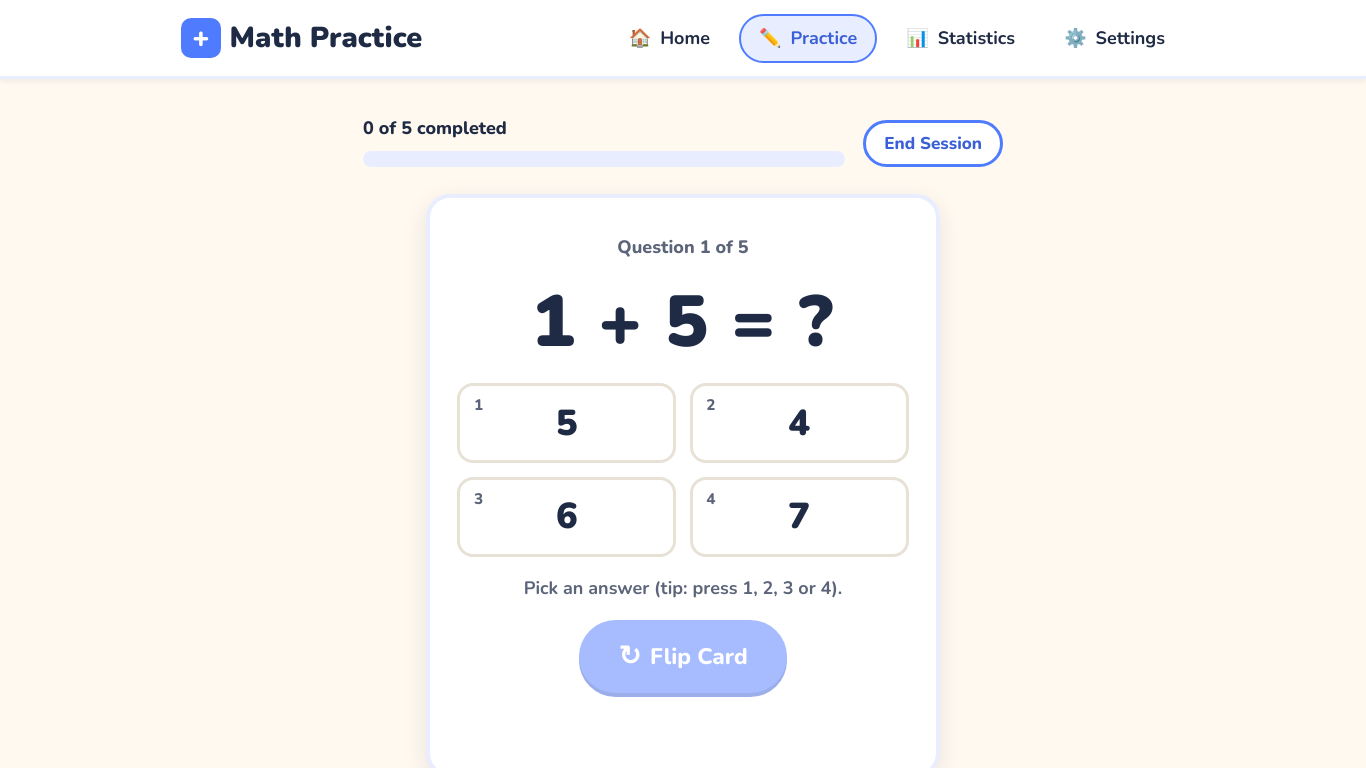
session safety › ends and saves the session, then goes where the child clicked
Click the button "1 5" at (567, 423), box [458,383,676,463]
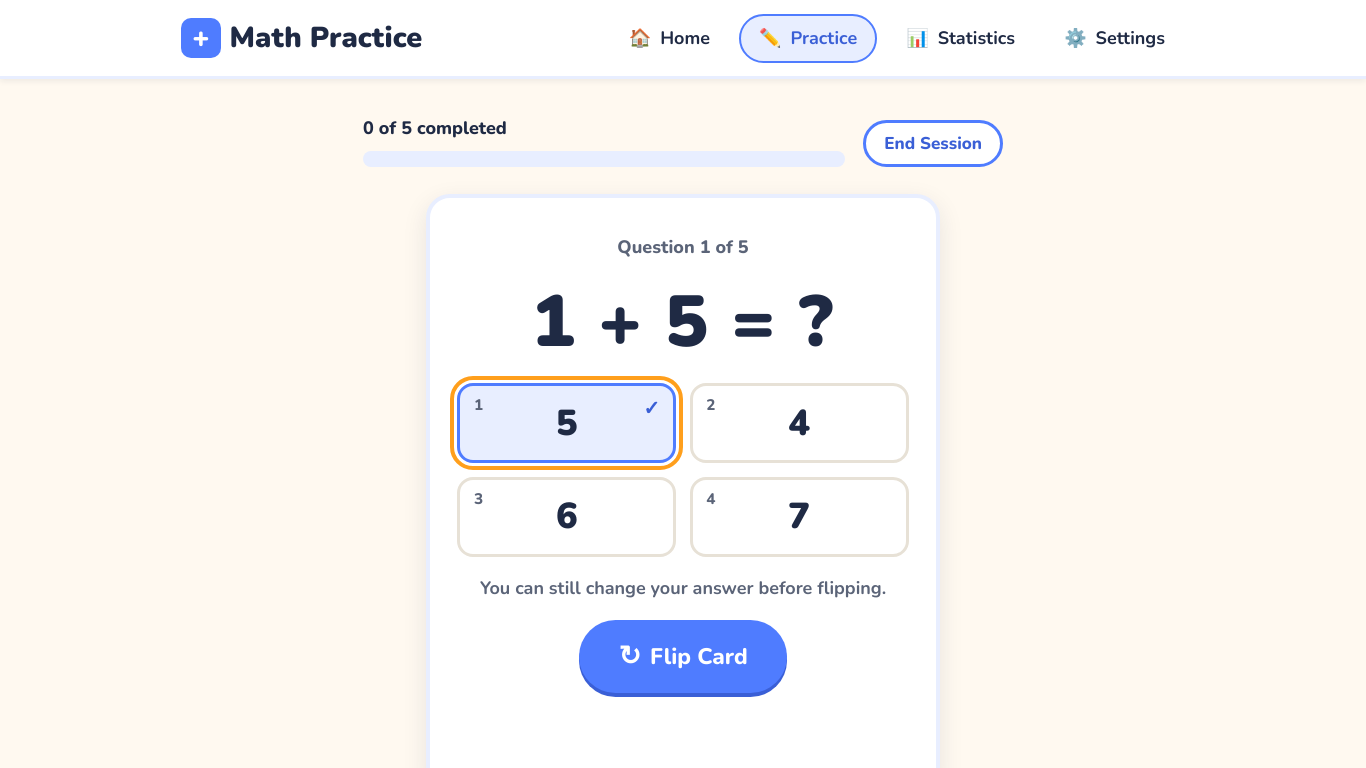
Click the button "↻ Flip Card" at (683, 656), box [579,620,787,693]
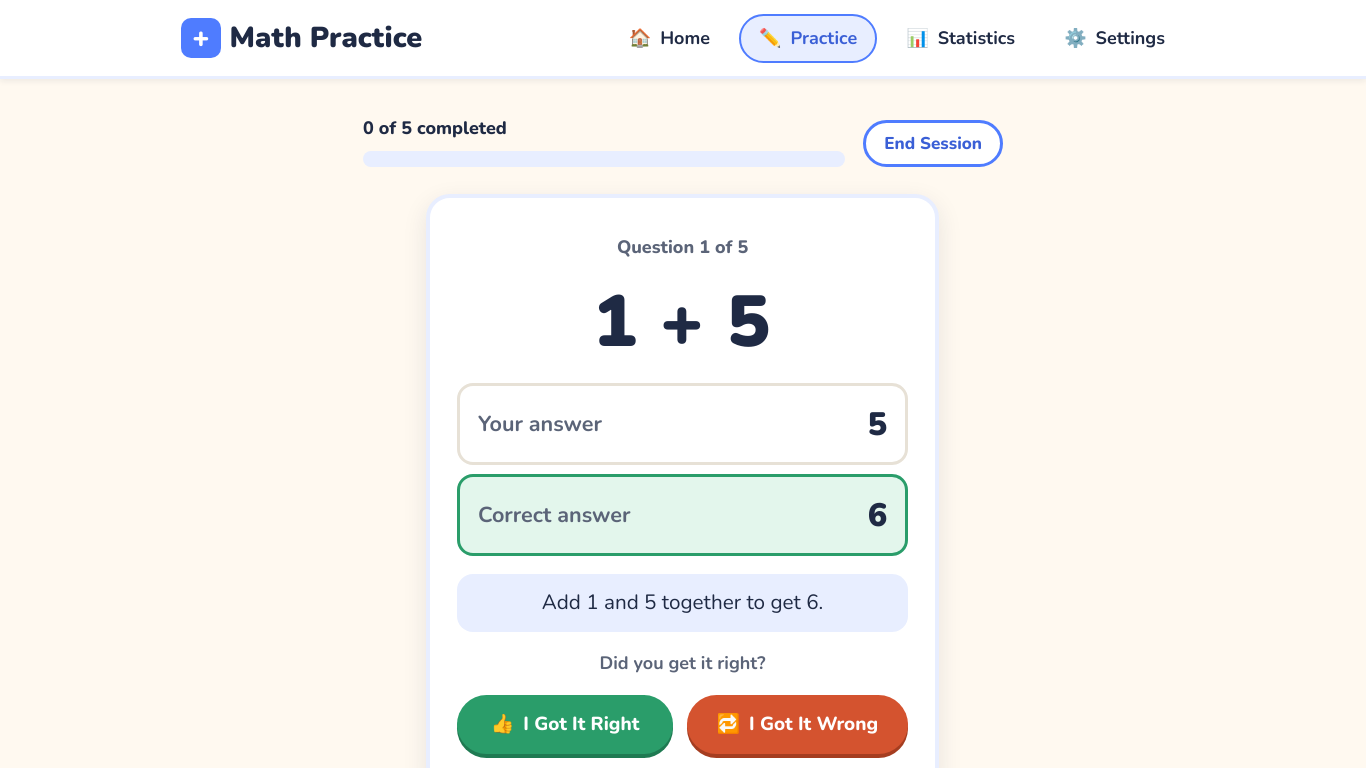
Click the button "🔁 I Got It Wrong" at (798, 724), box [687,695,909,754]
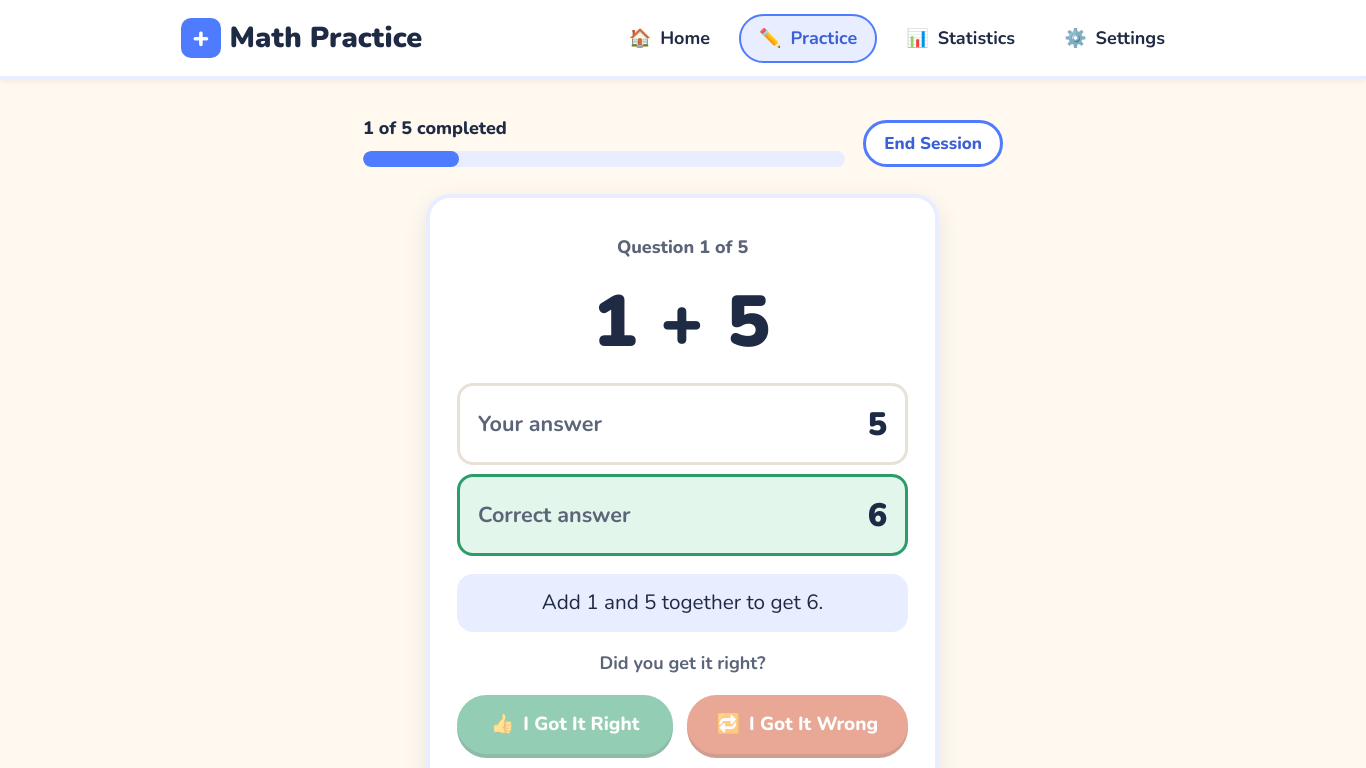
Click the link "📊 Statistics" at (961, 38), box [906,26,1015,50]
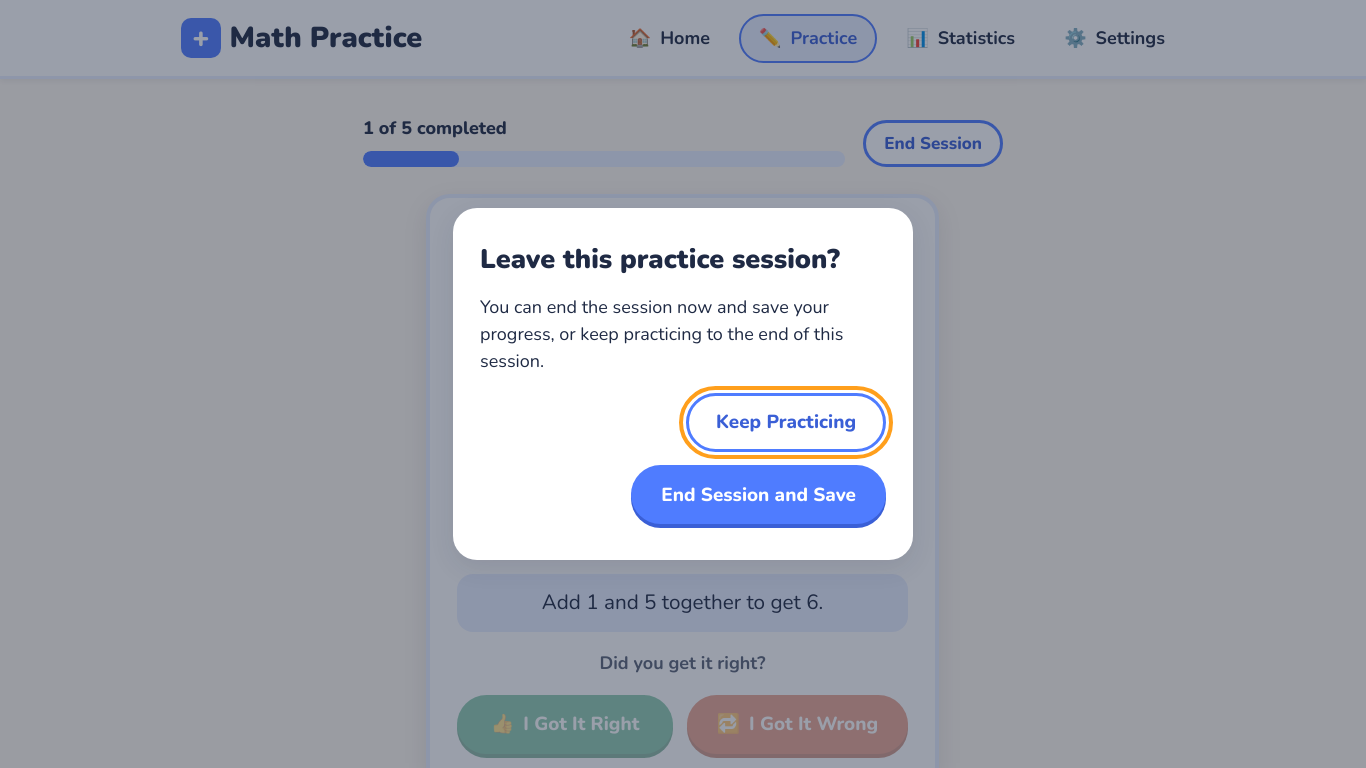
Click the button "End Session and Save" at (759, 495), box [631,465,886,524]
(page scrolled)
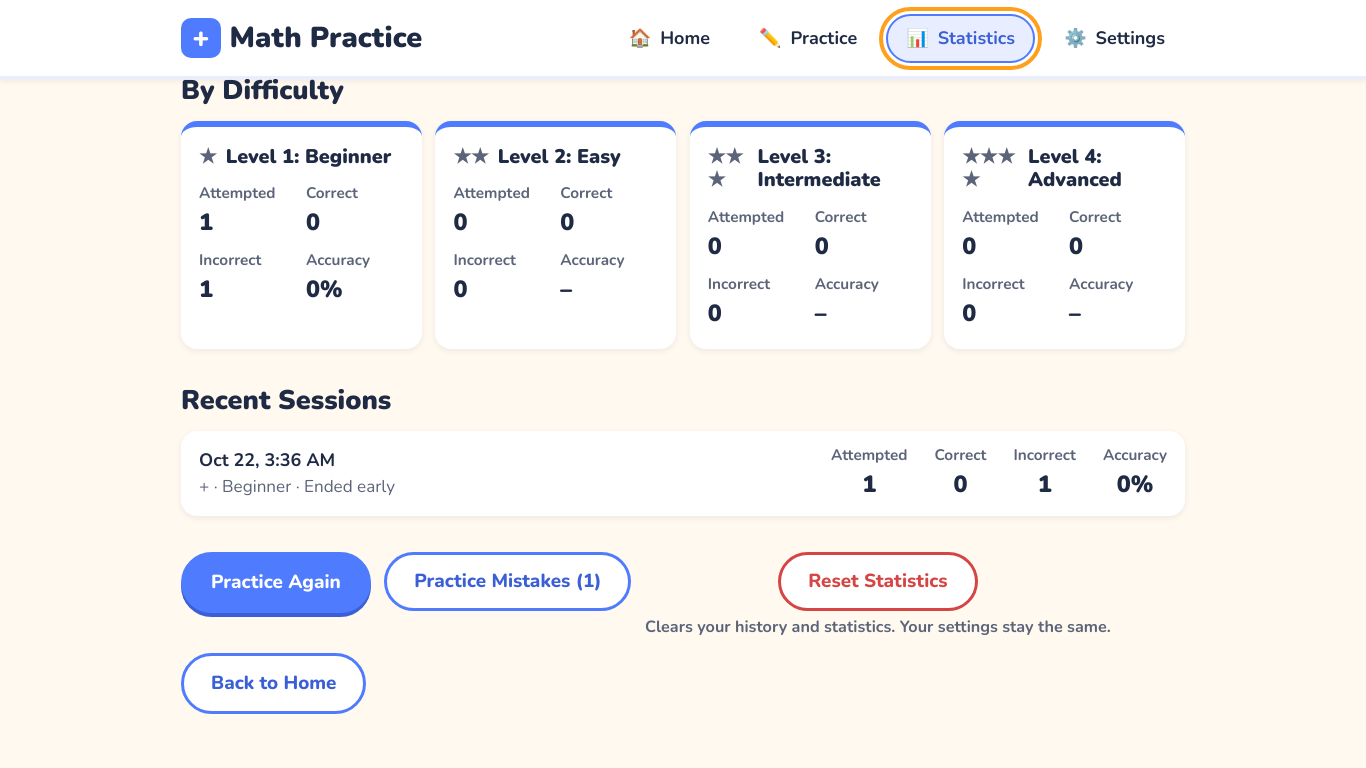
Check: the text "+ · Beginner · Ended early" is shown, box [199,474,395,499]
